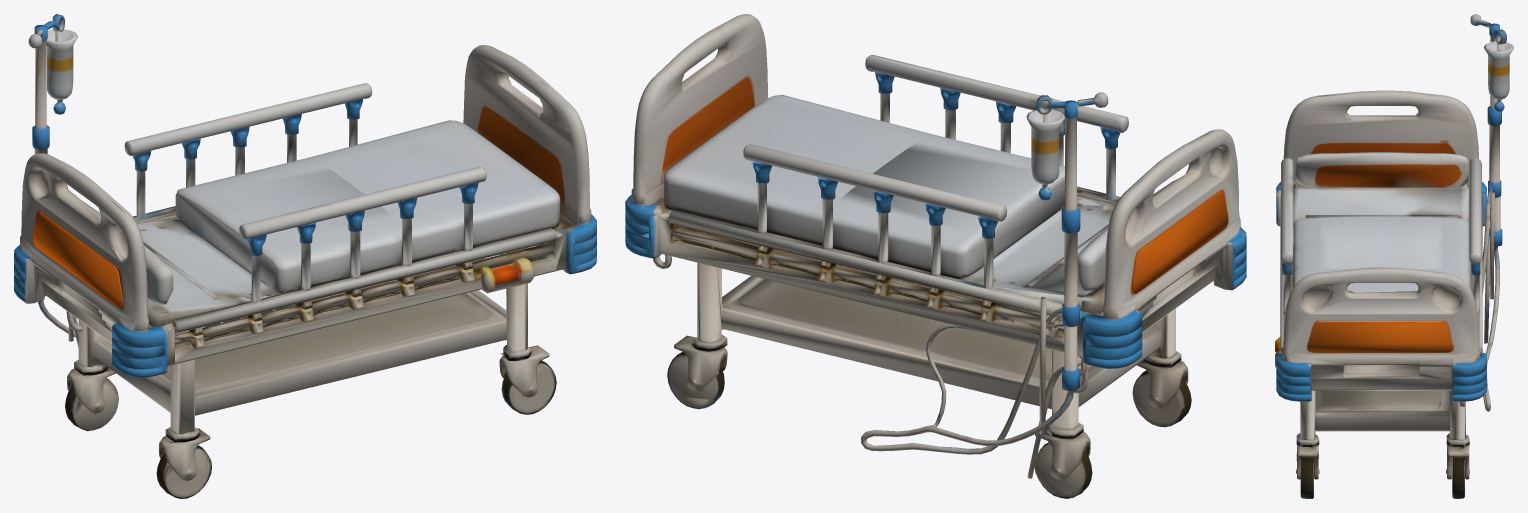
Rendered from Medical__a_hospital_gurney_76baf34a_v4.cluster.glb.
3 views of the same model, side by side, from view 1: azimuth 30°, elevation 25°; view 2: azimuth 150°, elevation 25°; view 3: azimuth 270°, elevation 25° (orthographic). The views are drawn at different scales.
Visible parts, largest first — view 1: material; view 2: material; view 3: material.
Boxes of the visible parts, box(x1,y1,x2,y2) form: material: box(14, 14, 596, 498); material: box(625, 14, 1246, 498); material: box(1275, 14, 1513, 498).
Size of the model in its own units: 1.9 by 1.52 by 1.01.
Materials: 1 (1 with a texture image).
